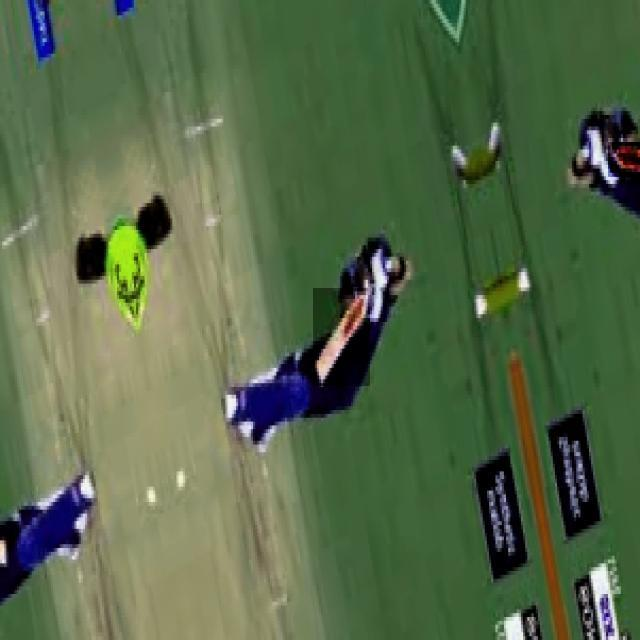bat: (313, 284, 371, 390)
